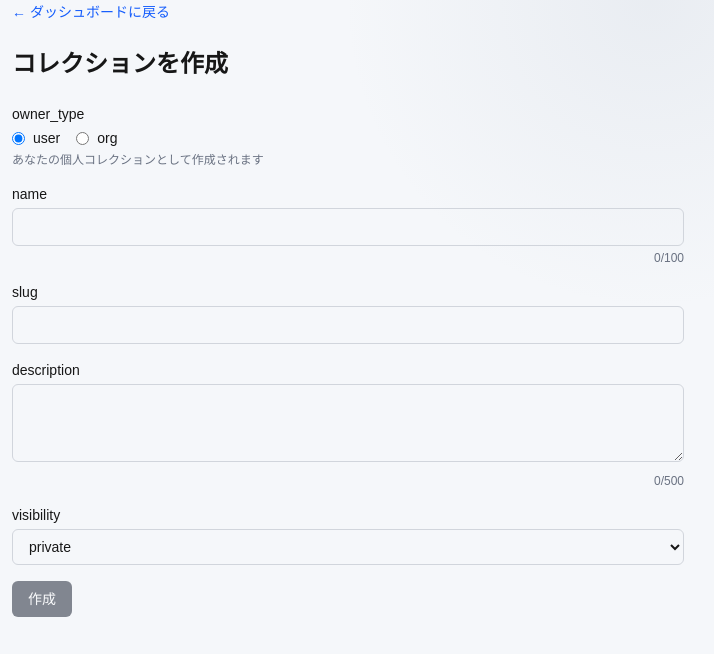
Test: NewCollectionPage › marks invalid slug formats and keeps submit disabled
Type "Lab Picks" into the field labelled "name".
click(348, 227); type("Lab Picks")  # box [12,208,684,246]
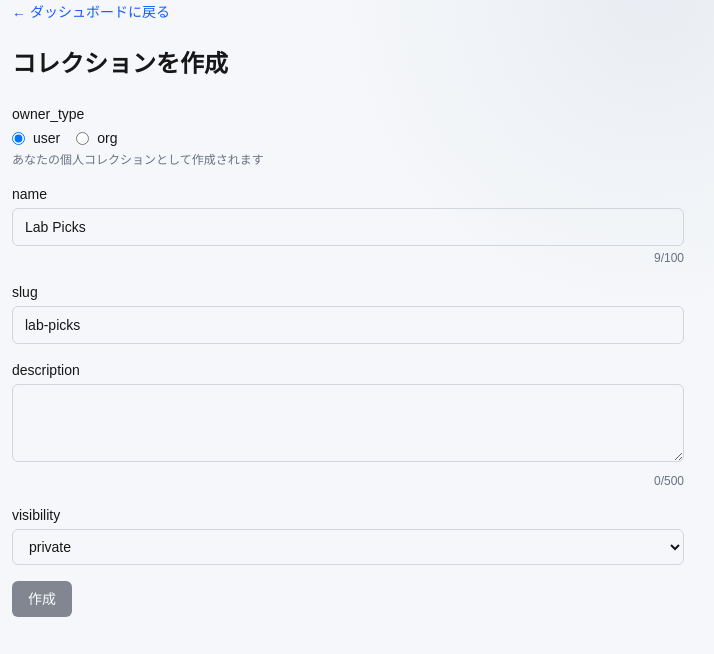
Replace the text in the field labelled "slug" with "bad--slug" at coordinates (348, 325), box [12,306,684,344]
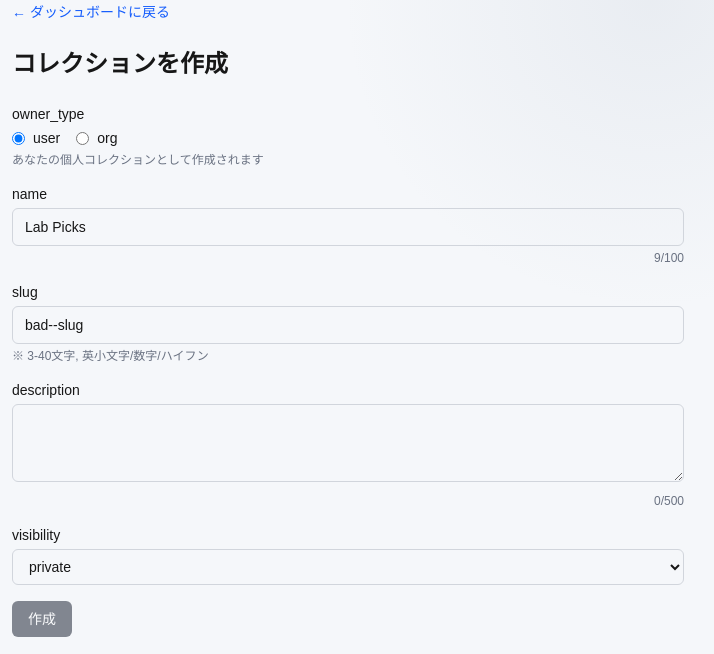
Expected: the button "作成" is disabled, [12,601,72,637]
Now the text "※ 3-40文字, 英小文字/数字/ハイフン" is shown, box [12,349,209,363]
